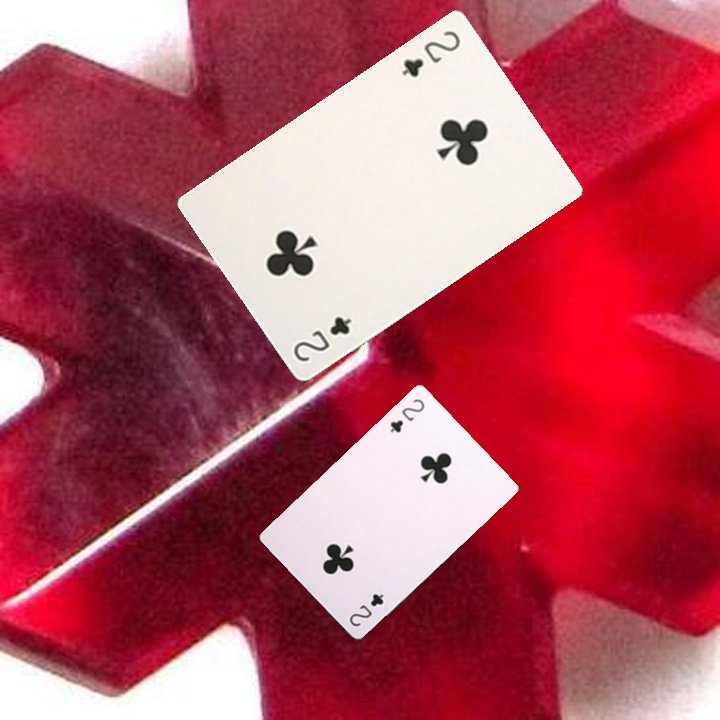2c: (397, 26, 464, 80), (289, 312, 354, 365), (386, 394, 427, 435), (345, 590, 387, 629)
